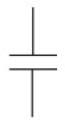Capacitor: (4, 42, 61, 83)
